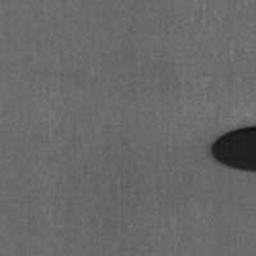Punching: (211, 127, 256, 172)
